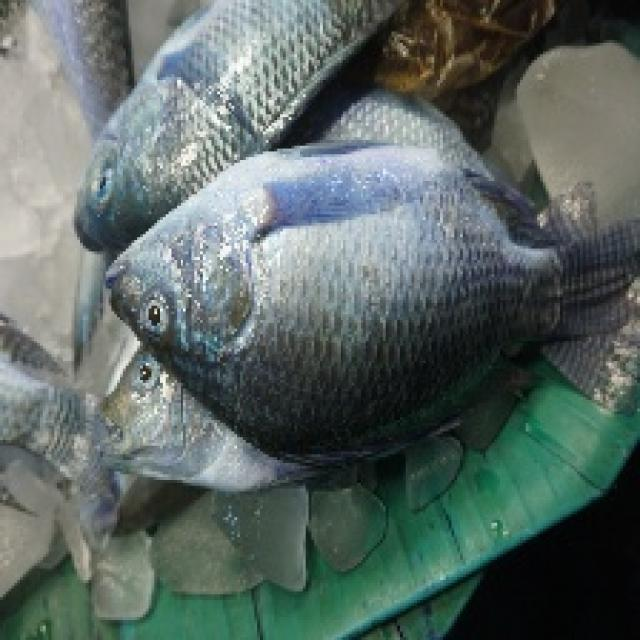Fresh: (97, 130, 640, 506)
